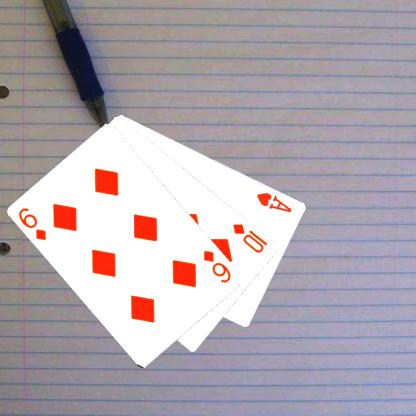10D: (230, 221, 270, 254)
6D: (201, 247, 233, 284), (16, 205, 48, 242)
AH: (254, 189, 294, 214)
